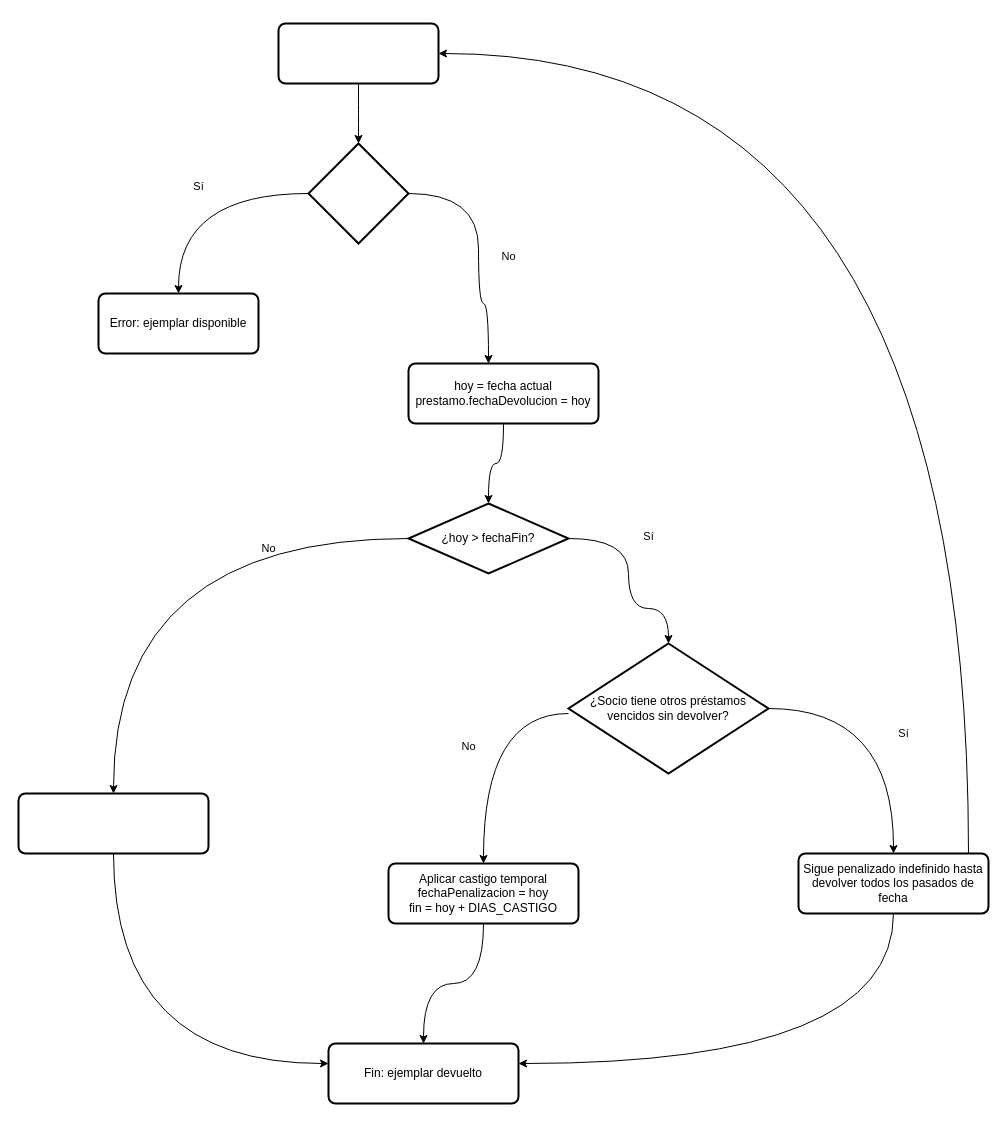
This 1006x1121 diagram has some shape labels left out. Here are the shapes that lost their labels. From the top down, the centre of each, then its label:
At point 358,53: "Biblitoecario devuelve ejemplar".
At point 358,193: "¿Préstamo devuelto?".
At point 113,823: "Devolución en plazo no se penaliza".
